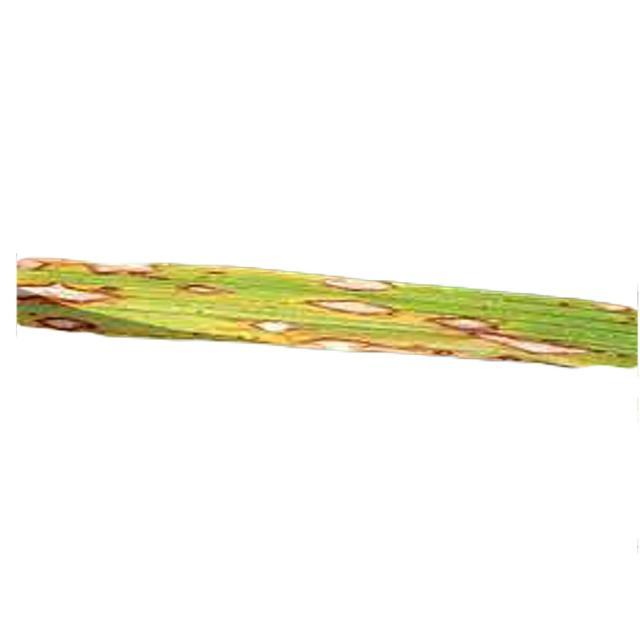Leaf blast: (6, 113, 640, 458)
